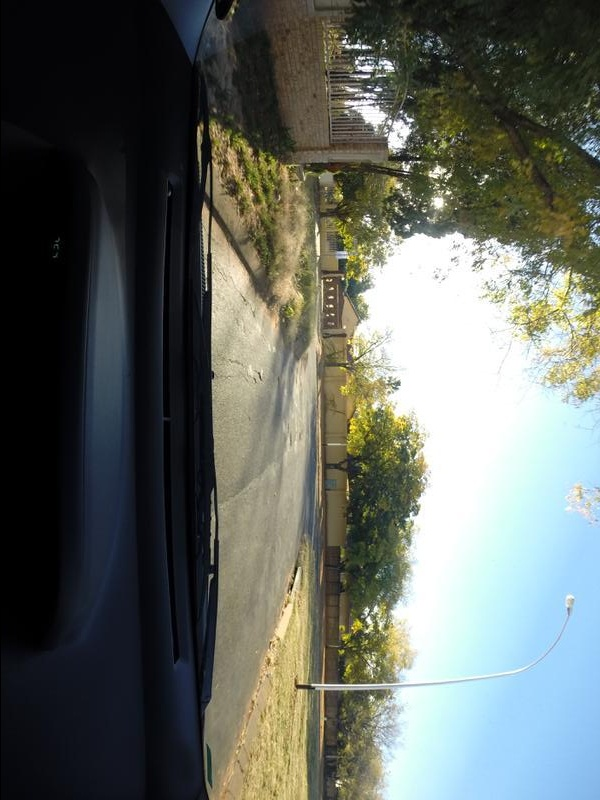pothole: (249, 306, 257, 320), (277, 376, 282, 397), (287, 434, 292, 453), (238, 295, 245, 305), (257, 371, 262, 381), (296, 435, 304, 441)
